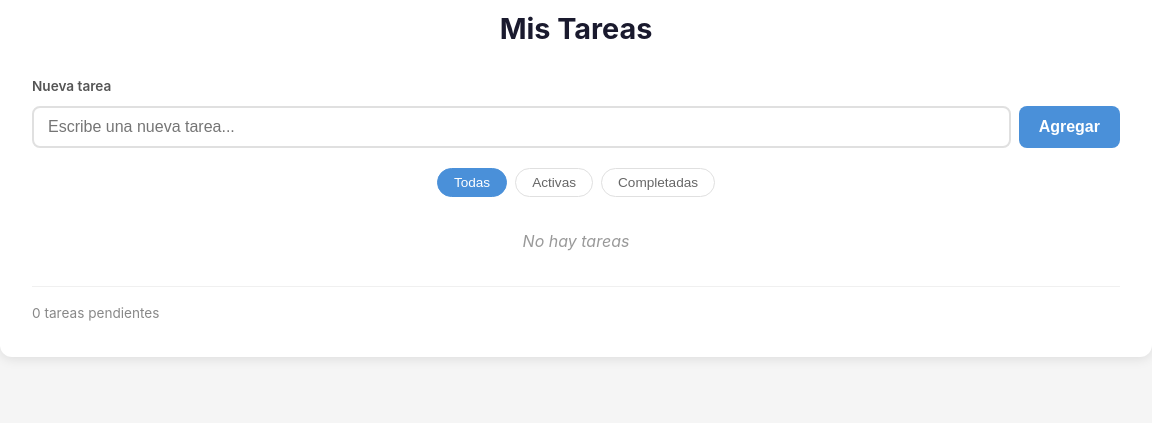
Test case: TodoApp › Cuando el usuario filtra las tareas › deberia mostrar solo las tareas completadas al seleccionar el filtro "Completadas"
Type "Tarea completada ejemplo" into the field labelled "Nueva tarea".
click(521, 127); type("Tarea completada ejemplo")  # box [32,106,1011,148]
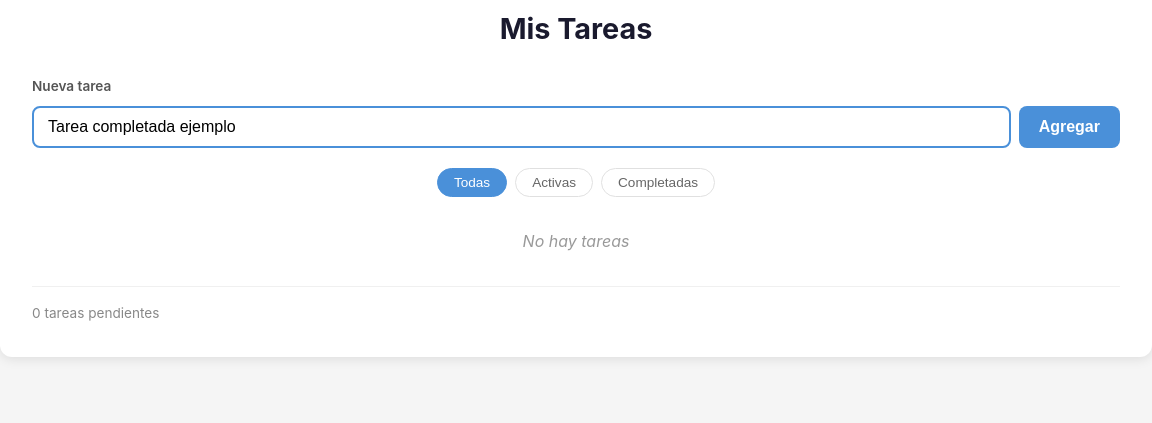
Click the button "Agregar".
click(1069, 127)  # box [1019,106,1120,148]
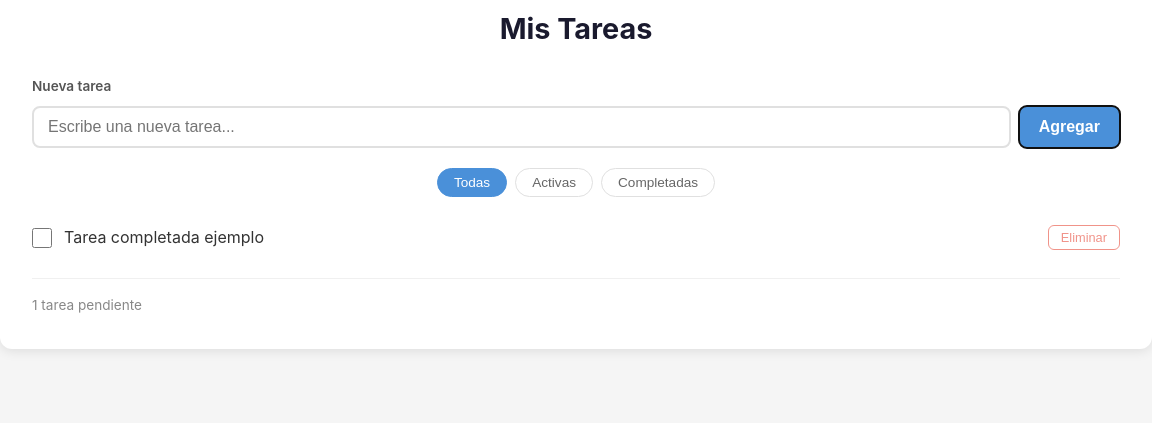
Type "Tarea pendiente ejemplo" into the field labelled "Nueva tarea".
click(521, 127); type("Tarea pendiente ejemplo")  # box [32,106,1011,148]
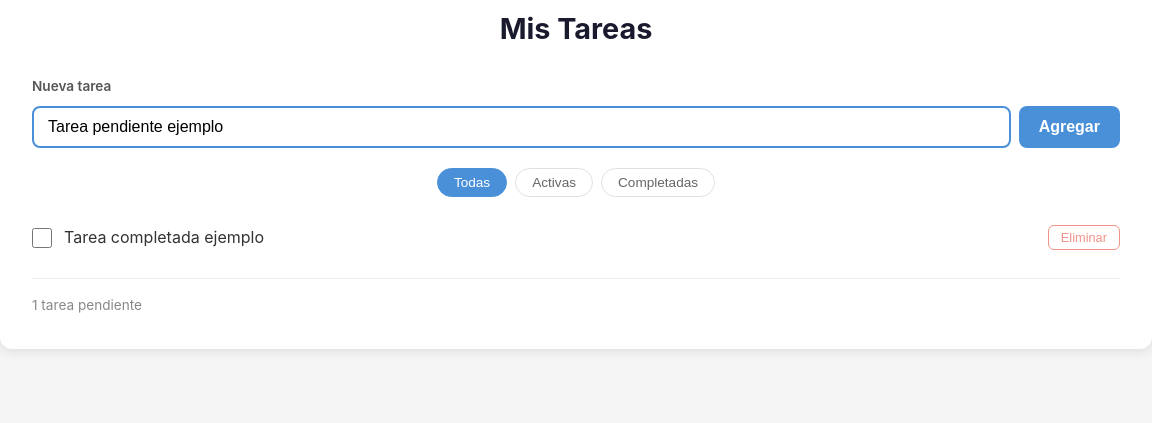
Click the button "Agregar".
click(1069, 127)  # box [1019,106,1120,148]
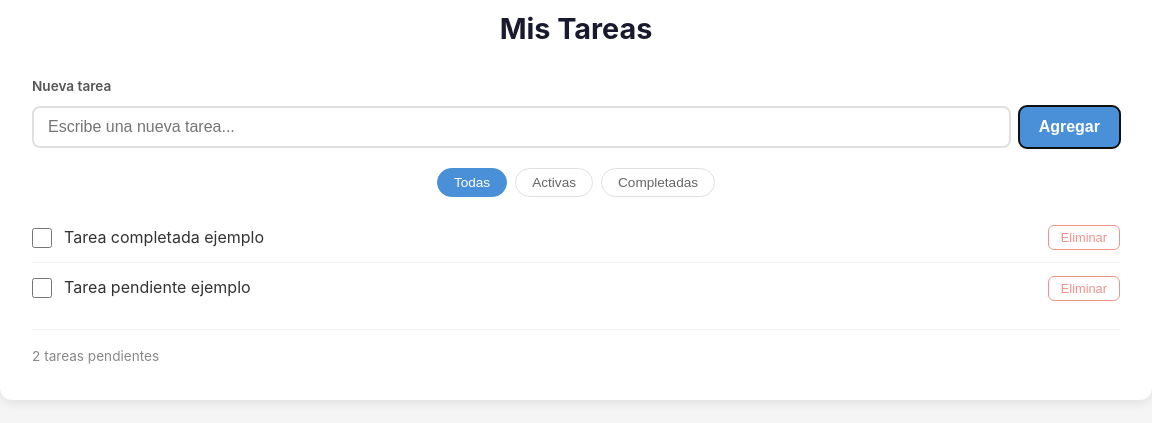
Click the checkbox labelled "Tarea completada ejemplo".
click(42, 238)  # box [32,228,52,248]
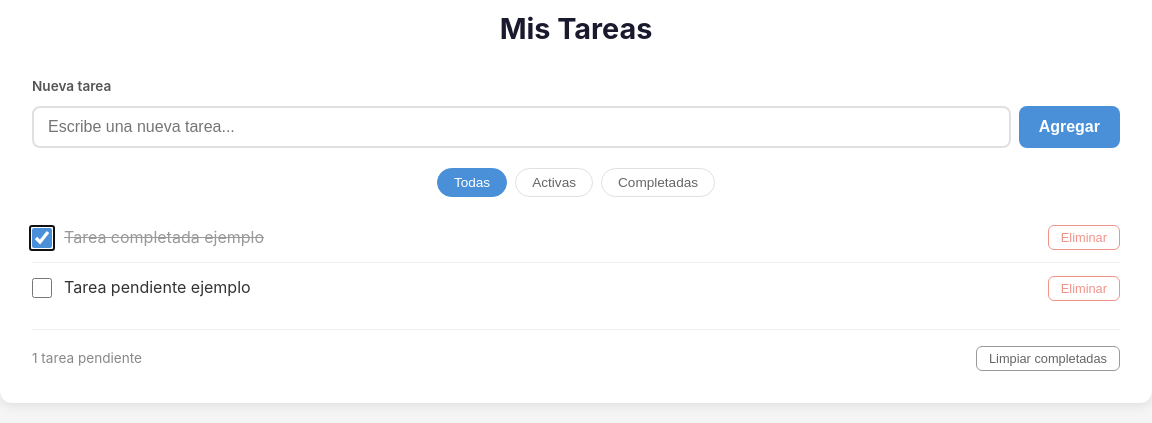
Click the button "Completadas".
click(658, 182)  # box [601,168,715,197]
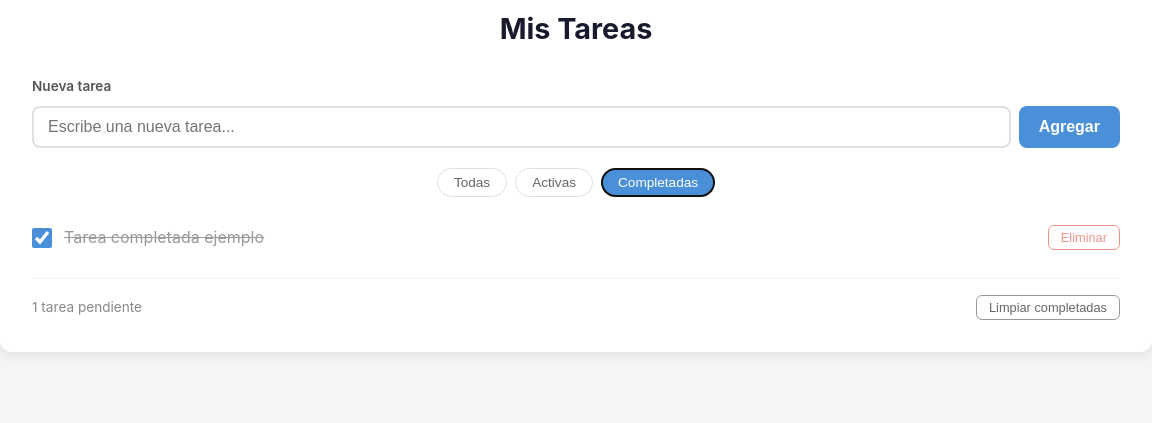
Result: the text "Tarea completada ejemplo" is shown at [64,225,264,250]
Result: the text "Tarea pendiente ejemplo" is gone
